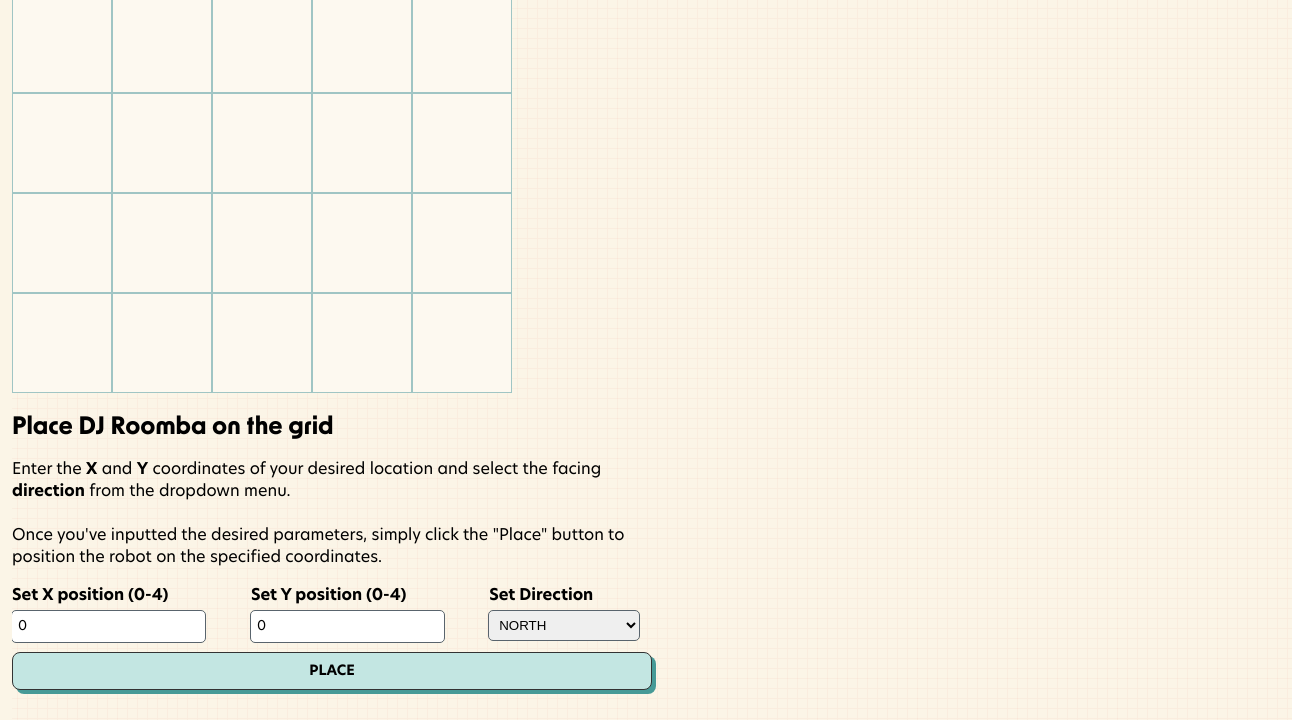
RobotVacuum › handles rotate and move actions correctly
(page scrolled)
Replace the text in the field labelled "Set X position (0-4)" with "1". click: [108, 626]
box: [12,611,205,642]
Replace the text in the field labelled "Set Y position (0-4)" with "2". click: [347, 626]
box: [251,611,444,642]
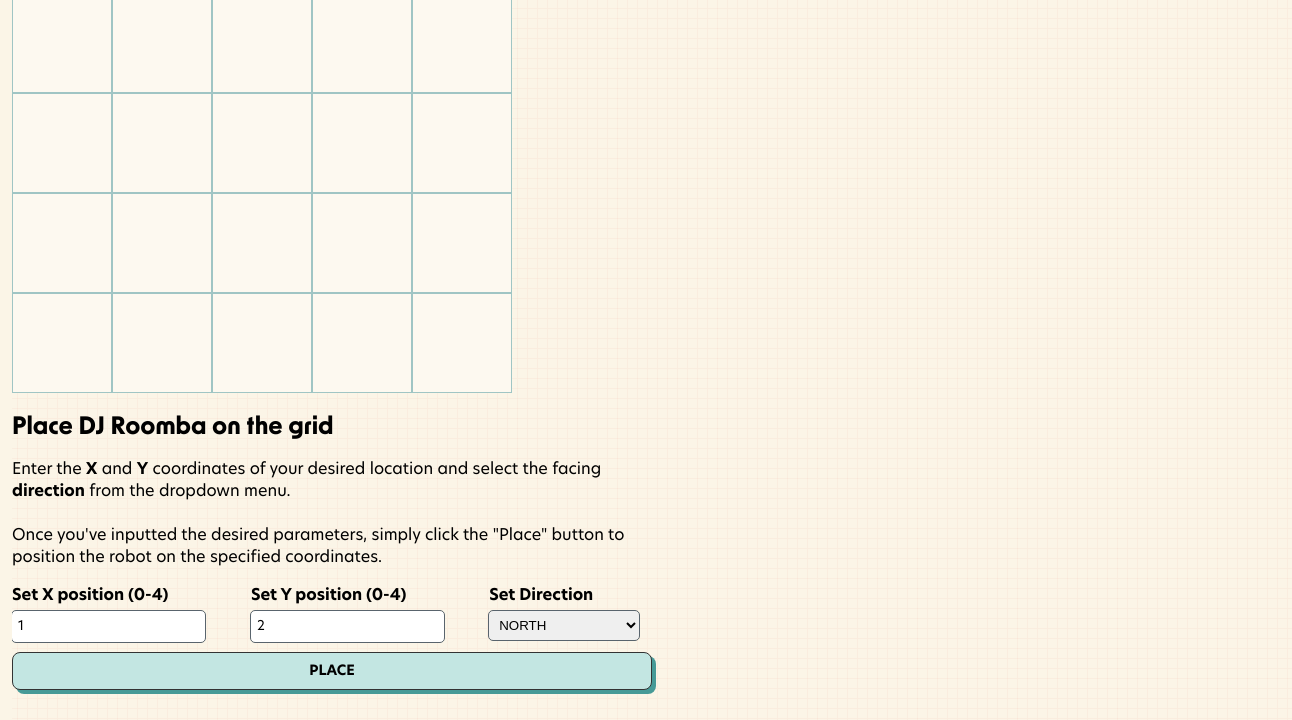
Select "EAST" in the dropdown labelled "Set Direction". click: [564, 626]
box: [489,611,639,640]
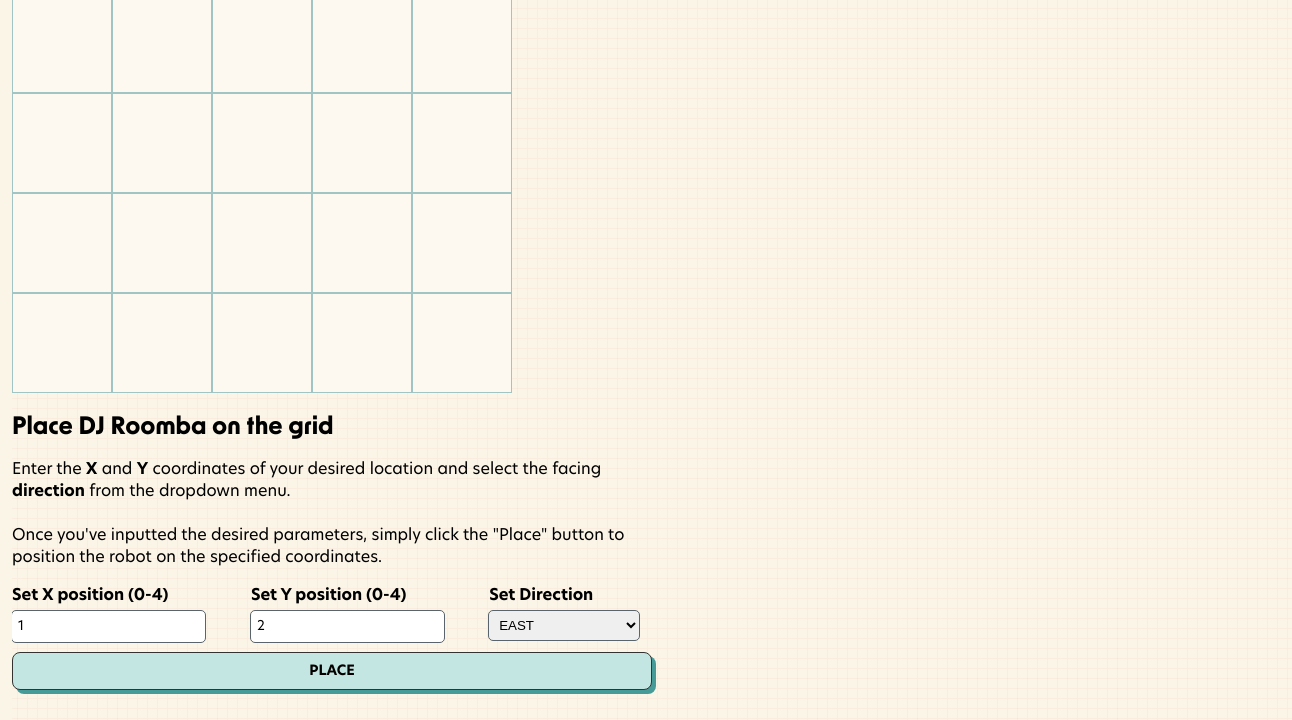
Click the button "PLACE". click: [332, 671]
box: [12,652,652,690]
(page scrolled)
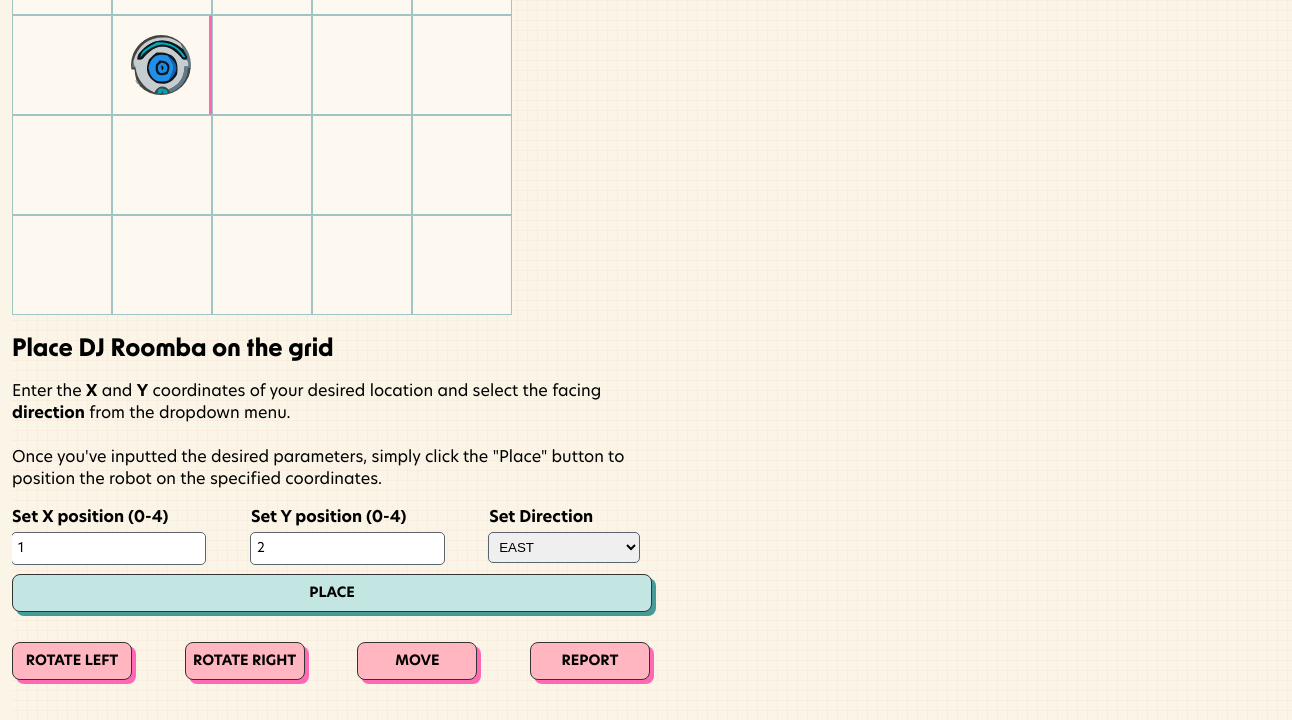
Click the button "ROTATE LEFT". click: [72, 661]
box: [12,642,132,680]
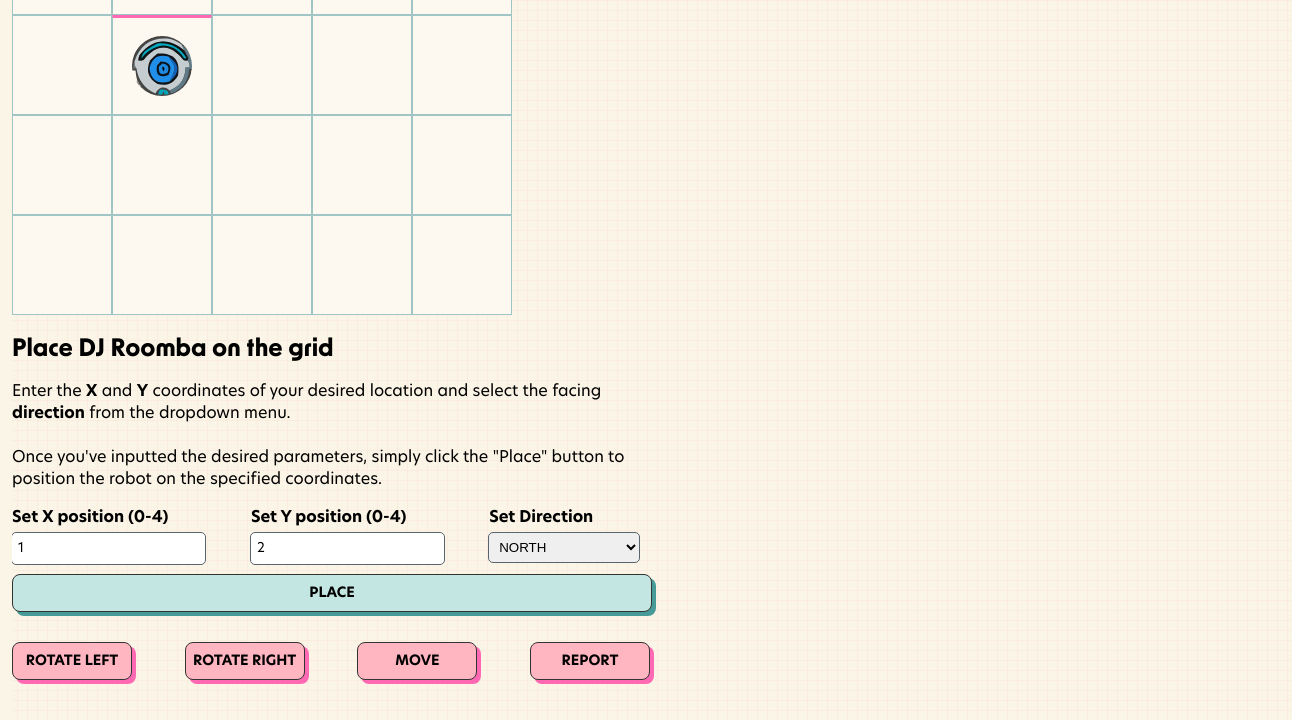
Click the button "ROTATE RIGHT". click: [245, 661]
box: [185,642,305,680]
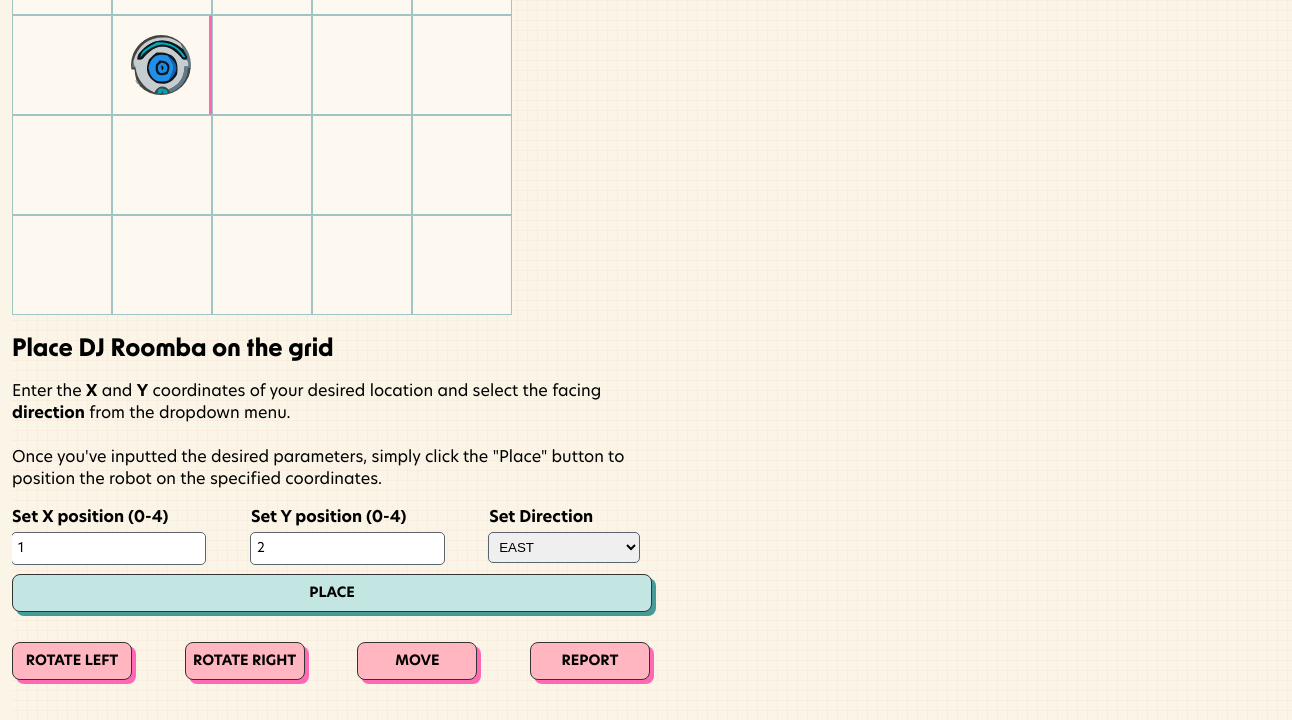
Click the button "MOVE". click: [417, 661]
box: [357,642,477,680]
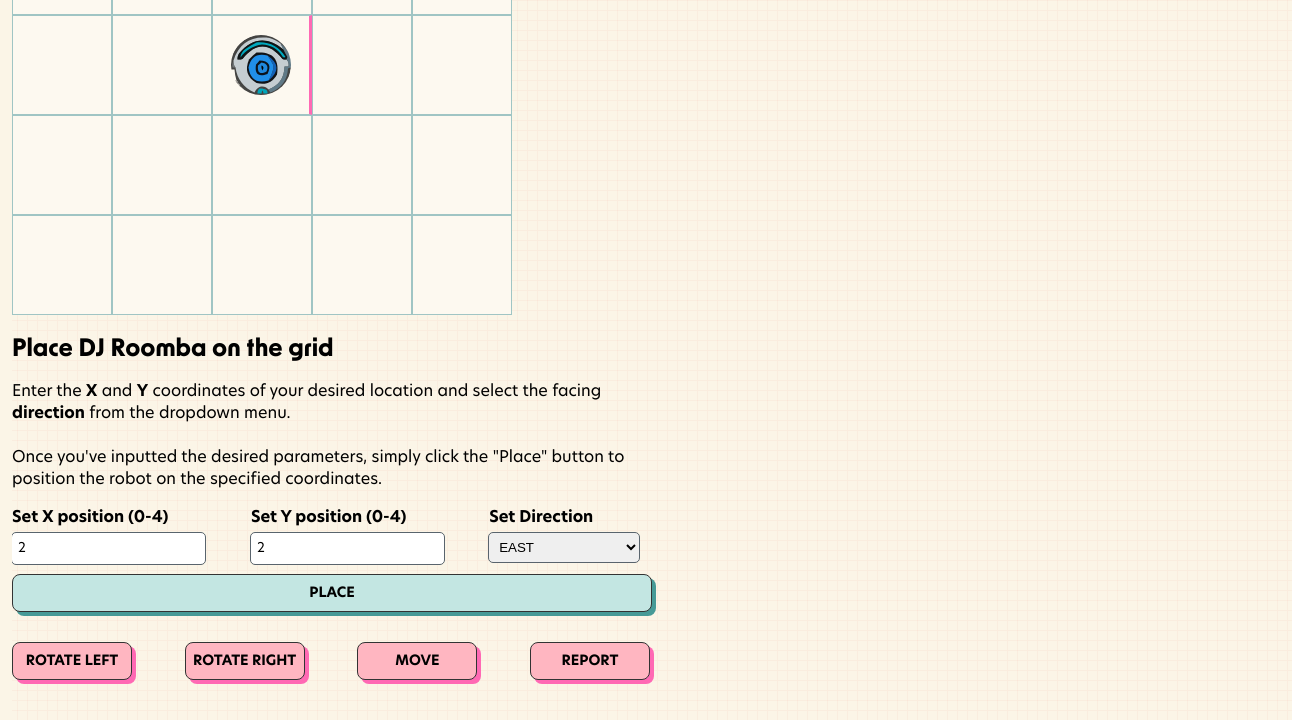
Now the field labelled "Set X position (0-4)" holds "2", box [12,533,205,564]
